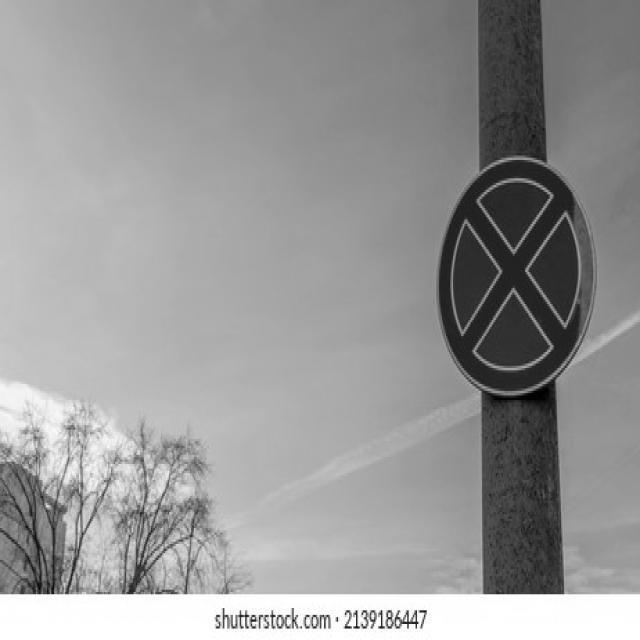no stopping or standing: (422, 152, 601, 407)
